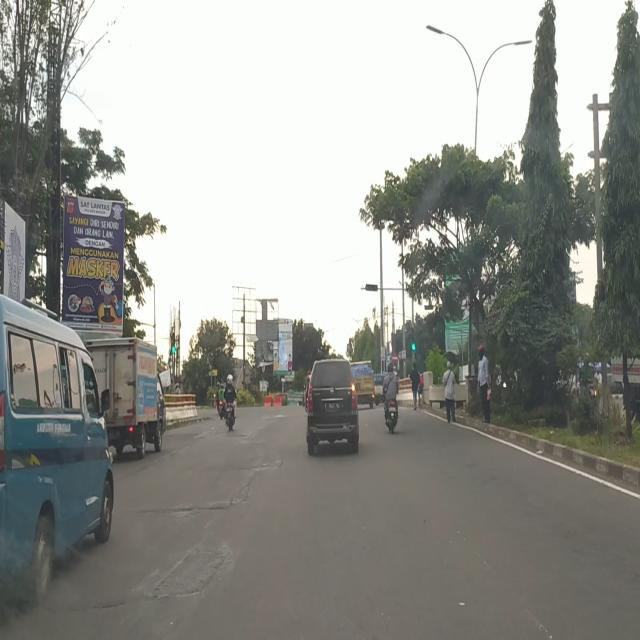Sewer Cover: (63, 592, 195, 614), (133, 507, 227, 514)
